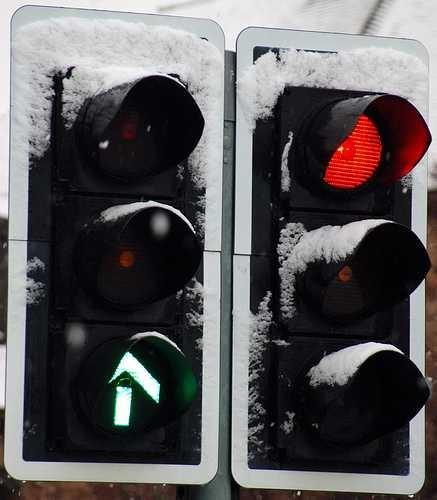green: (45, 55, 200, 451), (72, 334, 185, 442)
red: (277, 70, 423, 459), (293, 76, 405, 216)
